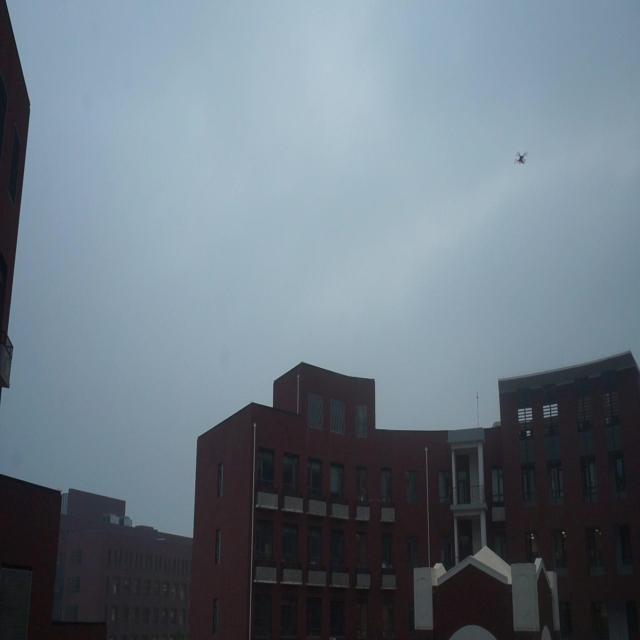drone: (512, 147, 530, 169)
